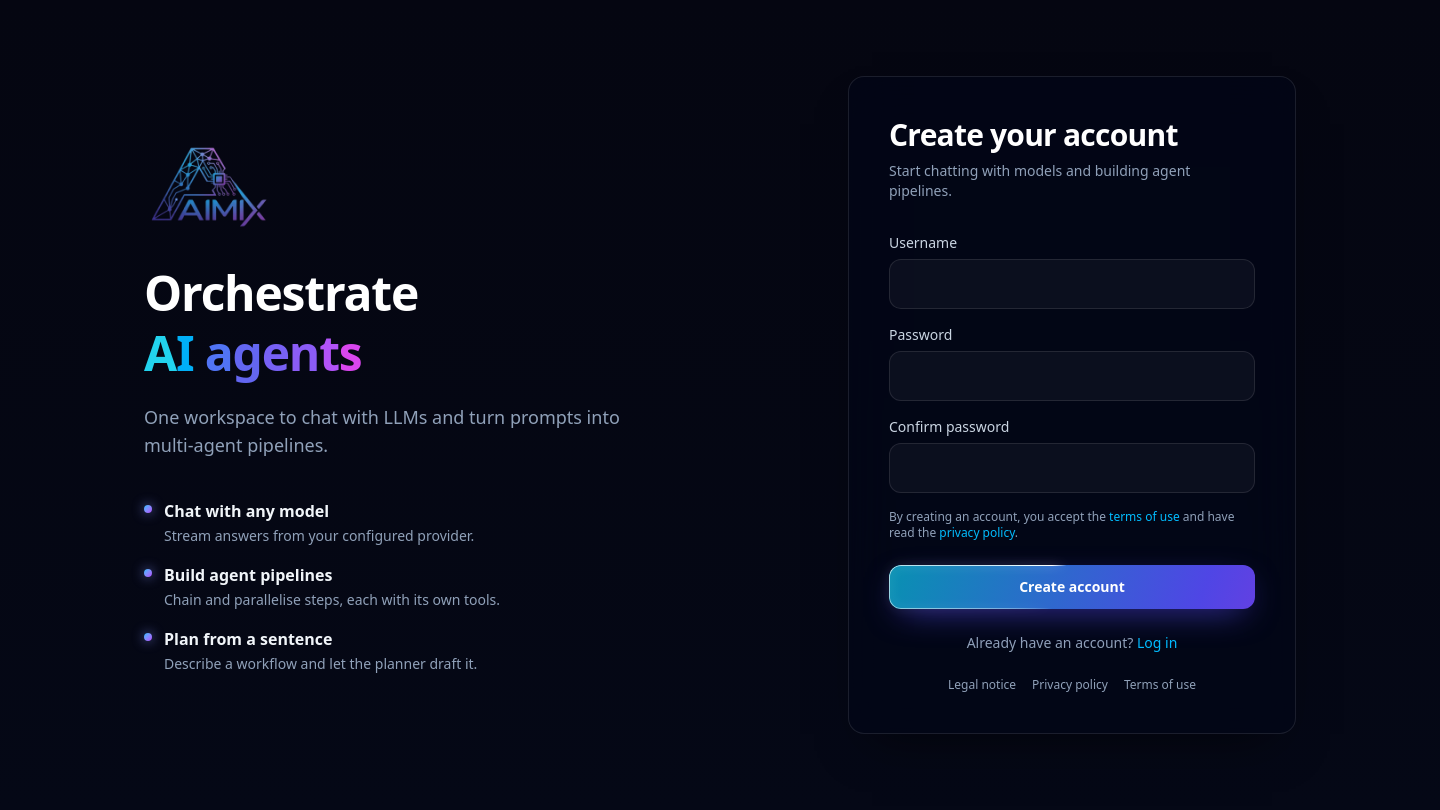
it: RegisterPage › stays on the form, with the reason, when the account is refused
Type "alice" into the field labelled "Username" at (1072, 284), box left=889, top=259, right=1255, bottom=309
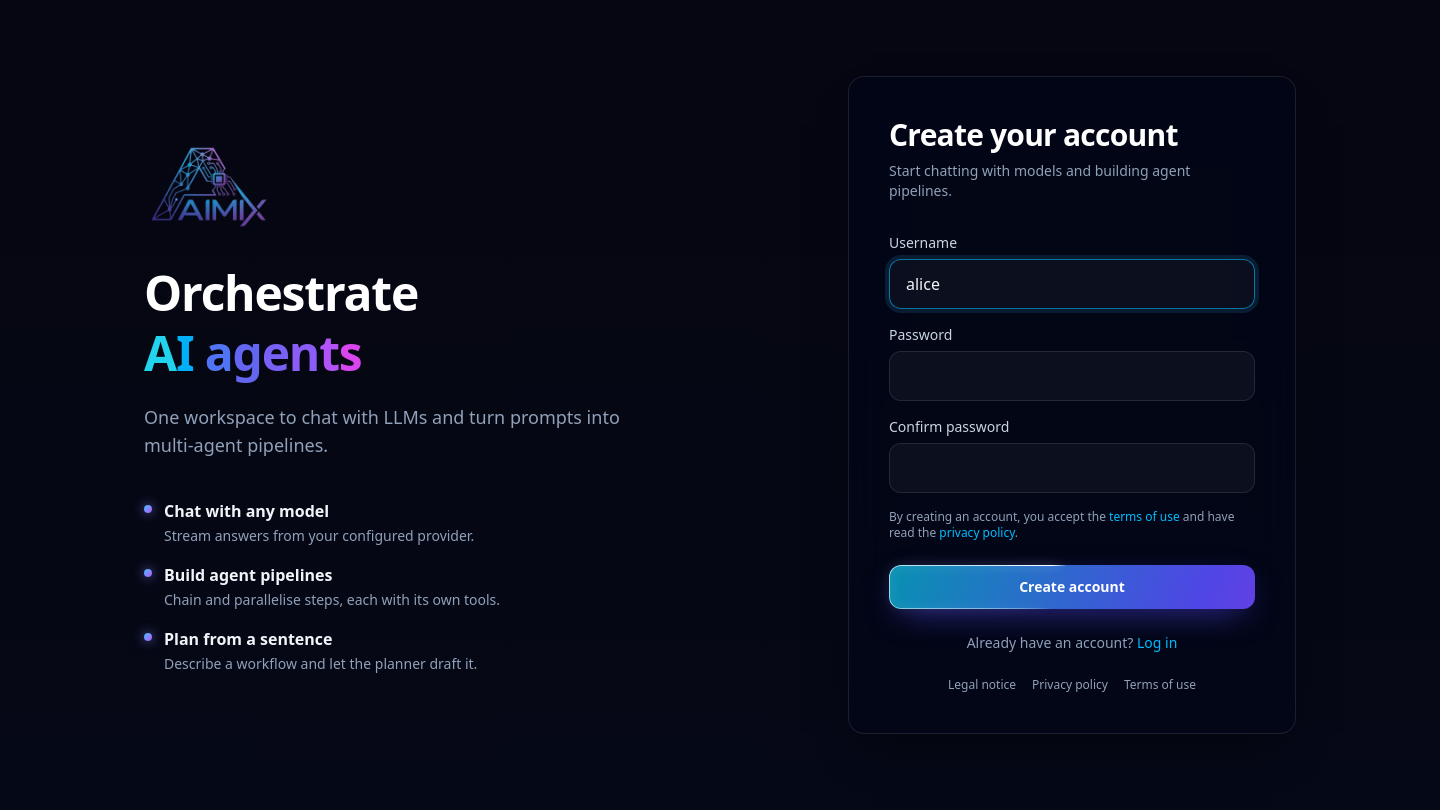
Type "a-strong-pass-1" into the password field labelled "Password" at (1072, 376), box left=889, top=351, right=1255, bottom=401
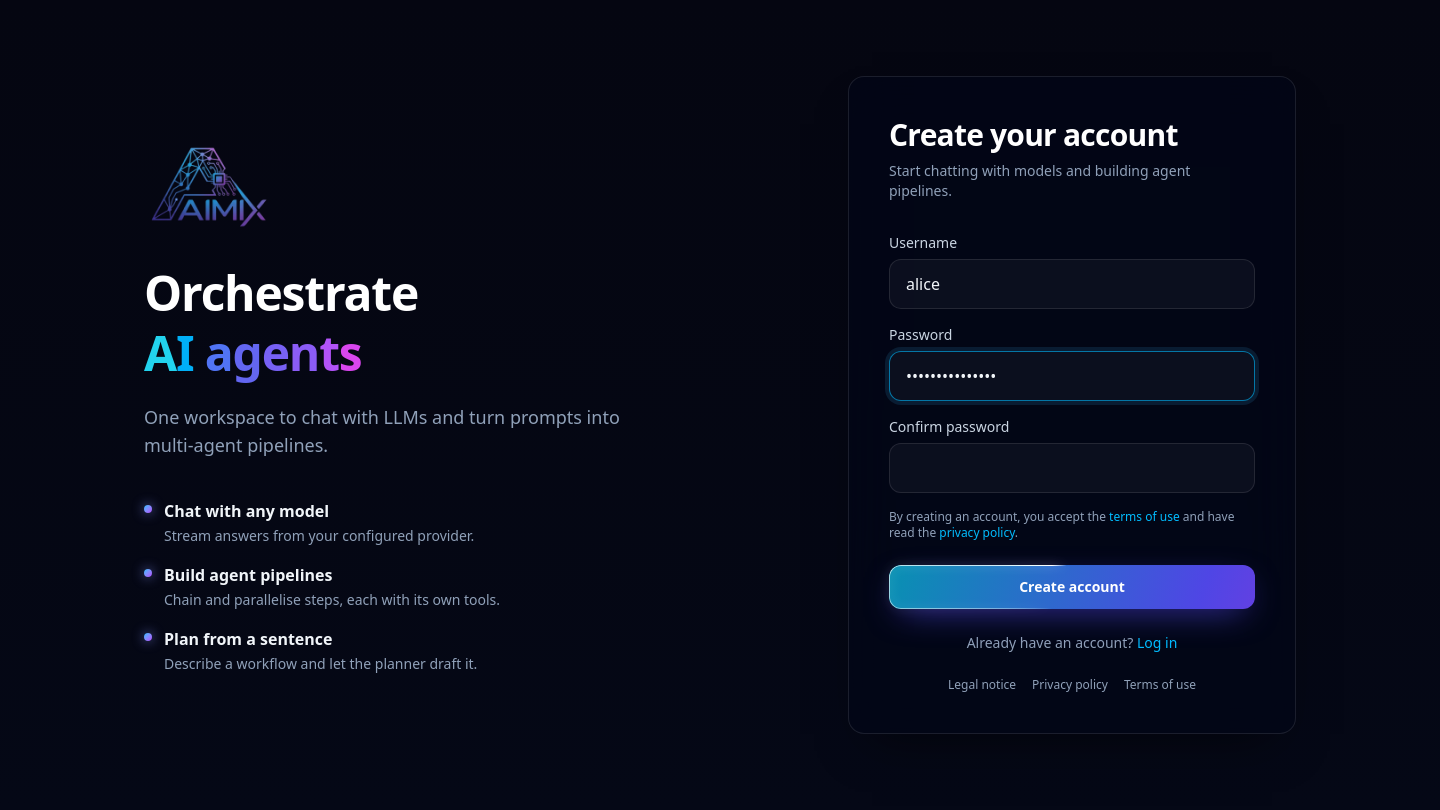
Type "a-strong-pass-1" into the password field labelled "Confirm password" at (1072, 468), box left=889, top=443, right=1255, bottom=493
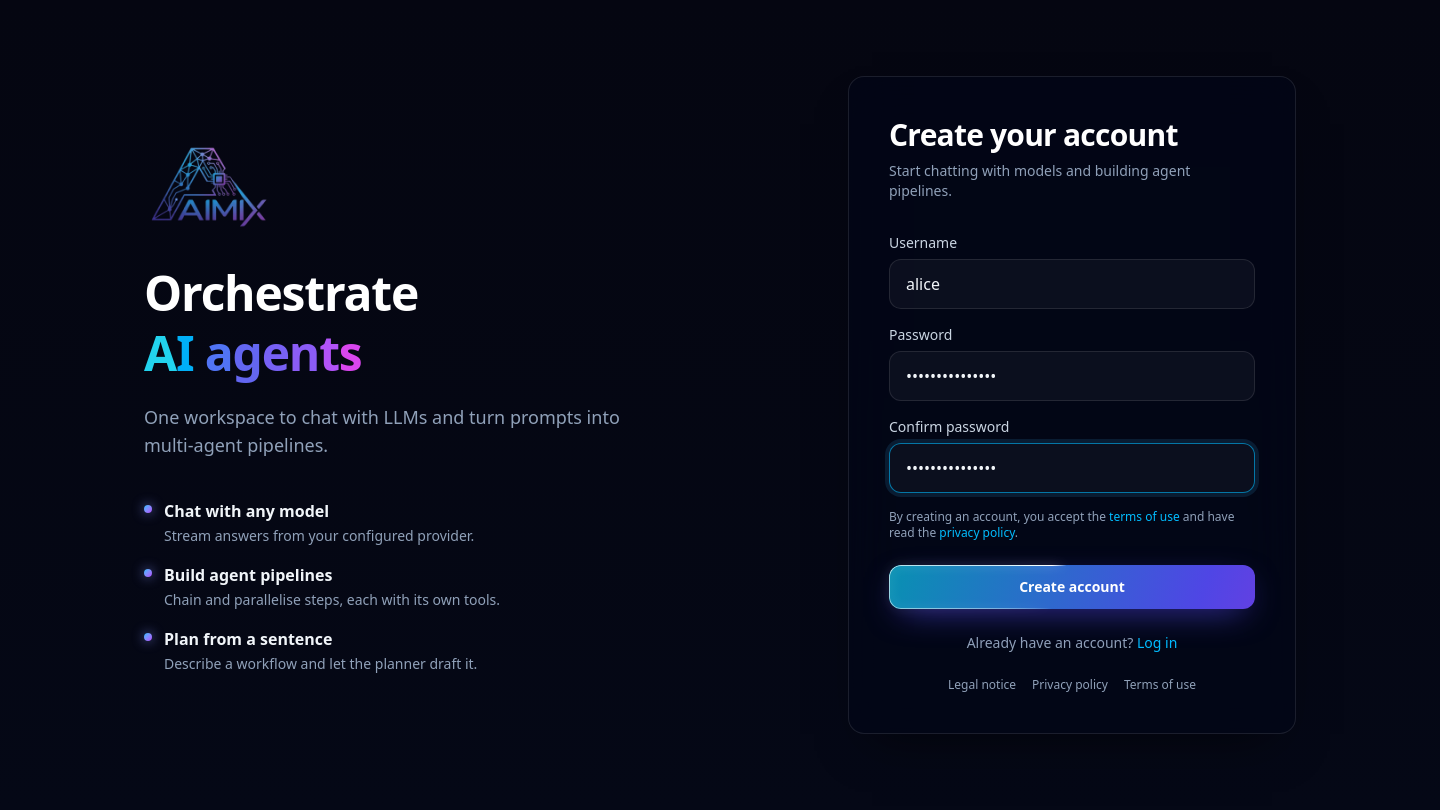
Click the button "Create account" at (1072, 587), box left=889, top=565, right=1255, bottom=609
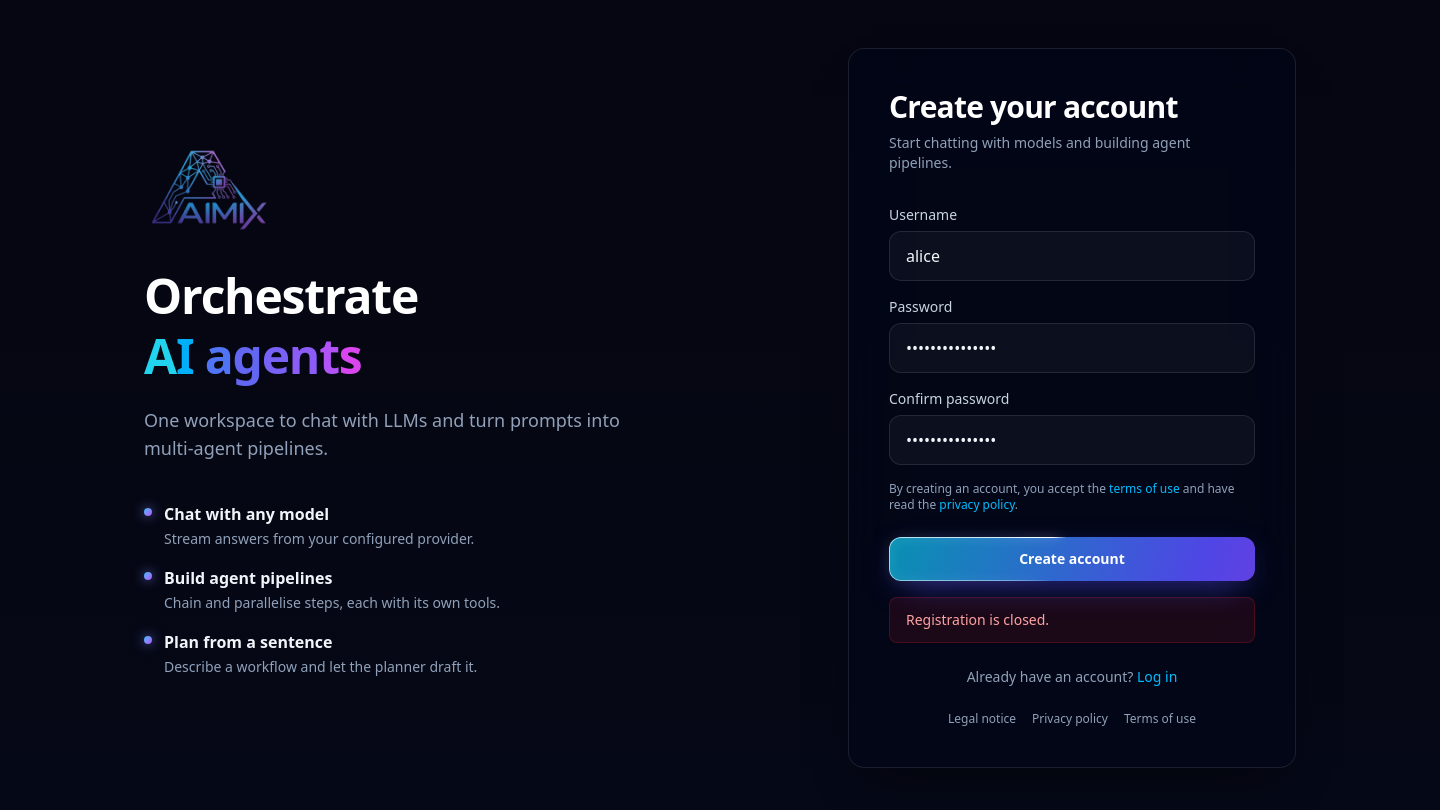
Expected: the message reads "Registration is closed.", left=906, top=610, right=1049, bottom=629
